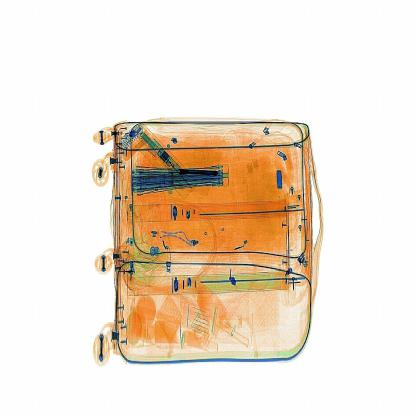knife: (179, 163, 226, 182)
